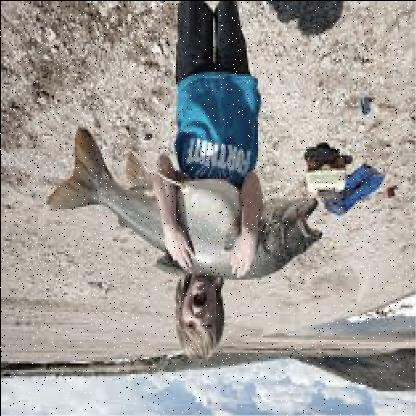fish: (44, 127, 322, 281)
